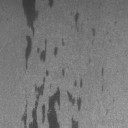red iron: (20, 69, 83, 128), (21, 0, 66, 71), (74, 12, 80, 32), (71, 116, 80, 128), (46, 0, 54, 8), (100, 67, 104, 76), (92, 28, 96, 36), (62, 68, 66, 76)
